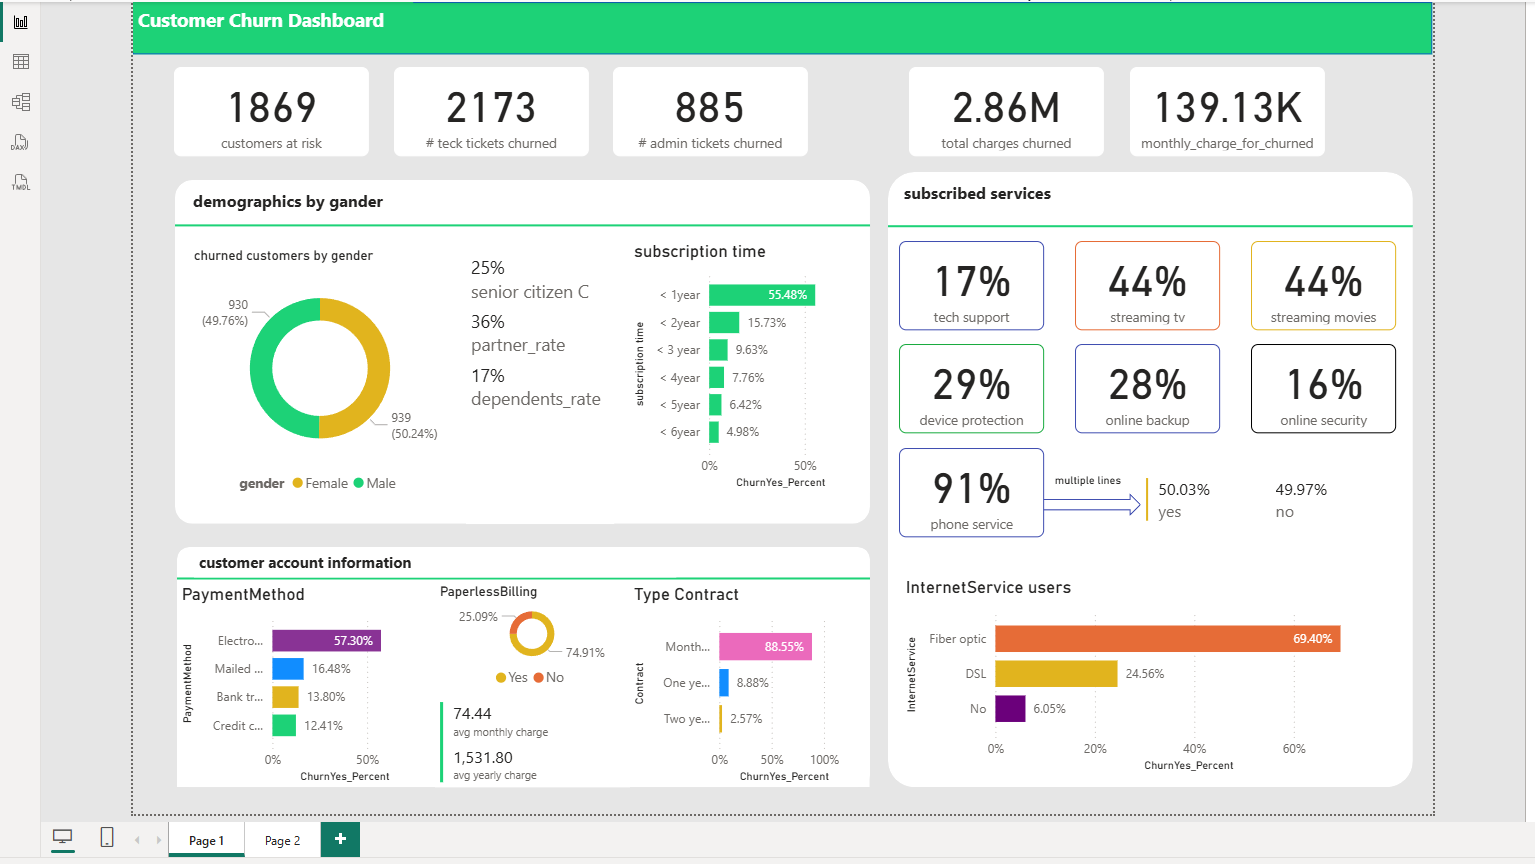

The page's visual inventory and layout, read from the dashboard file:
{"tool":"powerbi","page":{"name":"Page 1","canvas":[1280,800],"ordinal":0},"visuals":[{"type":"group","id":"g1","title":"Group 1","box":[0,0,1280,51.6],"z":0},{"type":"group","id":"g2","title":"Group 3","box":[744,150,517.2,623.6],"z":0,"group":"g5"},{"type":"group","id":"g3","title":"Group 3","box":[41.4,151.7,684.7,362],"z":0,"group":"g4"},{"type":"shape","title":"xfcgv","box":[744,167.5,517.2,606.2],"z":0,"group":"g2"},{"type":"shape","title":"xfcgv","box":[41.4,175,684.7,338.7],"z":0,"group":"g3"},{"type":"shape","title":"xfcgv","box":[43.4,536.5,682.7,236.7],"z":0,"group":"g6"},{"type":"card","fields":{"Values":["01 Churn-Dataset.churned"]},"box":[40.9,64.2,191.6,87.5],"z":1000},{"type":"shape","box":[744,150,517.2,142.3],"z":1000,"group":"g2"},{"type":"shape","box":[41.4,151.7,684.7,136.7],"z":1000,"group":"g3"},{"type":"textbox","box":[754.8,172.2,480.5,37.9],"z":1000,"group":"g5"},{"type":"textbox","box":[54,179.9,474.7,35.5],"z":1000,"group":"g4"},{"type":"shape","box":[43.4,520.2,682.8,95.5],"z":1000,"group":"g6"},{"type":"card","fields":{"Values":["01 Churn-Dataset.monthly_charge_for_churned"]},"box":[982.4,64.2,191.6,87.5],"z":2000},{"type":"multiRowCard","fields":{"Values":["01 Churn-Dataset.multuple lines yes","01 Churn-Dataset.multiple_lines_no"]},"box":[993.3,464.3,253.2,94.6],"z":2000,"group":"g2"},{"type":"textbox","box":[60.1,536.9,474.9,29.6],"z":2000,"group":"g6"},{"type":"card","fields":{"Values":["01 Churn-Dataset.total charges churned"]},"box":[764.5,64.2,191.6,87.5],"z":3000},{"type":"group","id":"g4","title":"Group 4","box":[41.4,151.7,684.7,362.8],"z":3000,"group":"g6"},{"type":"card","fields":{"Values":["01 Churn-Dataset.# admin tickets churned"]},"box":[472.7,64.2,191.6,87.5],"z":4000},{"type":"donutChart","title":"churned customers by gender","fields":{"Category":["01 Churn-Dataset.gender"],"Y":["Sum(01 Churn-Dataset.churn_code)"]},"box":[54.8,242.6,258.1,250.2],"z":4000,"group":"g6"},{"type":"card","fields":{"Values":["01 Churn-Dataset.# teck tickets churned"]},"box":[256.8,64.2,191.6,87.5],"z":5000},{"type":"shape","title":"customer churn dashboard","box":[0,0,1280,51.6],"z":6000,"group":"g7"},{"type":"group","id":"g5","title":"Group 4","box":[744,150,517.2,623.6],"z":6000},{"type":"textbox","box":[0,0,276.2,50],"z":7000,"group":"g7"},{"type":"group","id":"g6","title":"Group 5","box":[41.4,151.7,684.7,621.4],"z":7000},{"type":"group","id":"g7","title":"Group 2","box":[0,0,1280,51.6],"z":7002,"group":"g1"},{"type":"barChart","title":"subscription time","fields":{"Category":["01 Churn-Dataset.subscription time"],"Y":["01 Churn-Dataset.ChurnYes_Percent"]},"box":[488.7,235.5,237.4,248.3],"z":8000},{"type":"barChart","title":"PaymentMethod","fields":{"Category":["01 Churn-Dataset.PaymentMethod"],"Y":["01 Churn-Dataset.ChurnYes_Percent"]},"box":[43.3,573.4,254.2,200],"z":9000},{"type":"multiRowCard","fields":{"Values":["01 Churn-Dataset.senior citizen C","01 Churn-Dataset.partner_rate","01 Churn-Dataset.dependents_rate"]},"box":[327.7,244.6,145.8,270],"z":9002,"group":"g4"},{"type":"donutChart","title":"PaperlessBilling","fields":{"Category":["01 Churn-Dataset.PaperlessBilling"],"Y":["01 Churn-Dataset.ChurnYes_Percent"]},"box":[297.5,573.4,191.1,111.3],"z":10000},{"type":"barChart","title":"Type Contract","fields":{"Category":["01 Churn-Dataset.Contract"],"Y":["01 Churn-Dataset.ChurnYes_Percent"]},"box":[488.7,573.4,237.4,200],"z":11000},{"type":"multiRowCard","fields":{"Values":["01 Churn-Dataset.avg monthly charge","01 Churn-Dataset.avg yearly charge"]},"box":[297.5,684.7,192.1,88.7],"z":12000},{"type":"barChart","title":"InternetService users","fields":{"Category":["01 Churn-Dataset.InternetService"],"Y":["01 Churn-Dataset.ChurnYes_Percent"]},"box":[756.7,566.5,491.6,196.1],"z":13000},{"type":"card","fields":{"Values":["01 Churn-Dataset.tech support"]},"box":[754.7,235.5,142.9,87.7],"z":14000},{"type":"card","fields":{"Values":["01 Churn-Dataset.streaming tv"]},"box":[928.1,235.5,142.9,87.7],"z":15000},{"type":"card","fields":{"Values":["01 Churn-Dataset.streaming movies"]},"box":[1101.5,235.5,142.9,87.7],"z":16000},{"type":"card","fields":{"Values":["01 Churn-Dataset.device protection"]},"box":[754.7,337.4,142.9,87.7],"z":17000},{"type":"card","fields":{"Values":["01 Churn-Dataset.phone service"]},"box":[754.7,439.4,142.9,87.7],"z":18000},{"type":"shape","title":"  multiple lines","box":[888.8,465.3,104.4,41.4],"z":18003,"group":"g5"},{"type":"card","fields":{"Values":["01 Churn-Dataset.online backup"]},"box":[928.1,336.9,142.9,87.7],"z":19000},{"type":"card","fields":{"Values":["01 Churn-Dataset.online security"]},"box":[1101.5,336.9,142.9,87.7],"z":20000}]}

Visuals, with their boxes on the page's 1280x800 design canvas (x1, y1, x2, y2). These are canvas units, not pixel positions in the 1535x864 screenshot, which may show the page scaled, cropped or inside an application window:
"Group 1" group: [left=0, top=0, right=1280, bottom=52]
"Group 3" group: [left=744, top=150, right=1261, bottom=774]
"Group 3" group: [left=41, top=152, right=726, bottom=514]
"xfcgv" shape: [left=744, top=168, right=1261, bottom=774]
"xfcgv" shape: [left=41, top=175, right=726, bottom=514]
"xfcgv" shape: [left=43, top=536, right=726, bottom=773]
card - 01 Churn-Dataset.churned: [left=41, top=64, right=232, bottom=152]
shape: [left=744, top=150, right=1261, bottom=292]
shape: [left=41, top=152, right=726, bottom=288]
textbox: [left=755, top=172, right=1235, bottom=210]
textbox: [left=54, top=180, right=529, bottom=215]
shape: [left=43, top=520, right=726, bottom=616]
card - 01 Churn-Dataset.monthly_charge_for_churned: [left=982, top=64, right=1174, bottom=152]
multiRowCard - 01 Churn-Dataset.multuple lines yes x 01 Churn-Dataset.multiple_lines_no: [left=993, top=464, right=1246, bottom=559]
textbox: [left=60, top=537, right=535, bottom=566]
card - 01 Churn-Dataset.total charges churned: [left=764, top=64, right=956, bottom=152]
"Group 4" group: [left=41, top=152, right=726, bottom=514]
card - 01 Churn-Dataset.# admin tickets churned: [left=473, top=64, right=664, bottom=152]
"churned customers by gender" donutChart: [left=55, top=243, right=313, bottom=493]
card - 01 Churn-Dataset.# teck tickets churned: [left=257, top=64, right=448, bottom=152]
"customer churn dashboard" shape: [left=0, top=0, right=1280, bottom=52]
"Group 4" group: [left=744, top=150, right=1261, bottom=774]
textbox: [left=0, top=0, right=276, bottom=50]
"Group 5" group: [left=41, top=152, right=726, bottom=773]
"Group 2" group: [left=0, top=0, right=1280, bottom=52]
"subscription time" barChart: [left=489, top=236, right=726, bottom=484]
"PaymentMethod" barChart: [left=43, top=573, right=298, bottom=773]
multiRowCard - 01 Churn-Dataset.senior citizen C x 01 Churn-Dataset.partner_rate: [left=328, top=245, right=474, bottom=515]
"PaperlessBilling" donutChart: [left=298, top=573, right=489, bottom=685]
"Type Contract" barChart: [left=489, top=573, right=726, bottom=773]
multiRowCard - 01 Churn-Dataset.avg monthly charge x 01 Churn-Dataset.avg yearly charge: [left=298, top=685, right=490, bottom=773]
"InternetService users" barChart: [left=757, top=566, right=1248, bottom=763]
card - 01 Churn-Dataset.tech support: [left=755, top=236, right=898, bottom=323]
card - 01 Churn-Dataset.streaming tv: [left=928, top=236, right=1071, bottom=323]
card - 01 Churn-Dataset.streaming movies: [left=1102, top=236, right=1244, bottom=323]
card - 01 Churn-Dataset.device protection: [left=755, top=337, right=898, bottom=425]
card - 01 Churn-Dataset.phone service: [left=755, top=439, right=898, bottom=527]
"  multiple lines" shape: [left=889, top=465, right=993, bottom=507]
card - 01 Churn-Dataset.online backup: [left=928, top=337, right=1071, bottom=425]
card - 01 Churn-Dataset.online security: [left=1102, top=337, right=1244, bottom=425]
